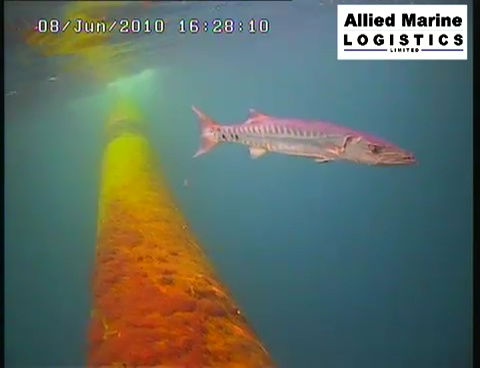flange joint: (224, 241, 283, 279), (223, 303, 287, 337)
